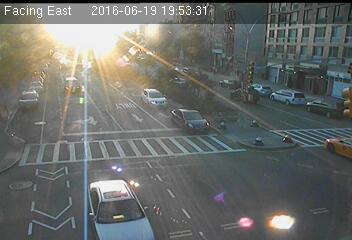neg: (176, 175, 201, 208), (77, 122, 102, 154), (302, 43, 326, 75), (182, 101, 206, 132), (307, 156, 328, 185), (81, 39, 101, 67), (272, 198, 292, 226), (223, 188, 243, 215), (53, 154, 73, 180), (130, 165, 150, 191), (250, 55, 269, 80), (125, 49, 144, 74), (250, 132, 268, 156), (69, 88, 86, 111), (198, 49, 213, 68), (287, 109, 300, 127)
